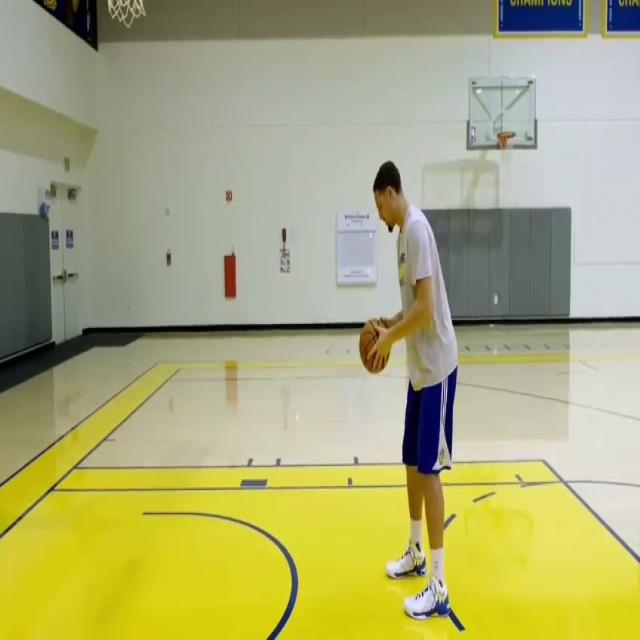ball: (359, 320, 391, 374)
